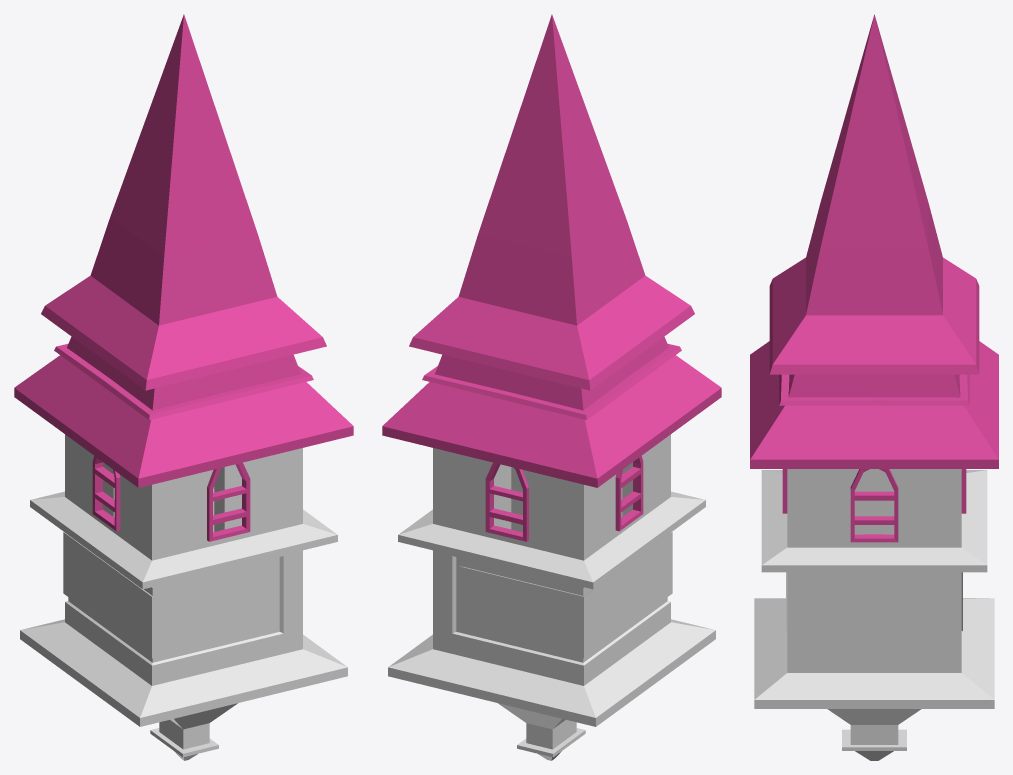
Rendered from Bashenka.fbx.
The picture shows the model from 3 angles, left to right: view 1: azimuth 30°, elevation 25°; view 2: azimuth 150°, elevation 25°; view 3: azimuth 270°, elevation 25°; orthographic projection.
Parts seen in each view (by area): view 1: Cube.041, Cube.030, Cube.042; view 2: Cube.041, Cube.030, Cube.042; view 3: Cube.041, Cube.030, Cube.042.
Part boxes in pixels (left/top/right/bottom): Cube.041: left=14, top=14, right=353, bottom=487; Cube.030: left=20, top=473, right=347, bottom=760; Cube.042: left=30, top=434, right=337, bottom=589; Cube.041: left=382, top=14, right=721, bottom=487; Cube.030: left=388, top=478, right=715, bottom=760; Cube.042: left=398, top=434, right=705, bottom=589; Cube.041: left=750, top=14, right=998, bottom=468; Cube.030: left=754, top=483, right=994, bottom=760; Cube.042: left=761, top=469, right=987, bottom=572.
Size of the model in its own units: 1232 by 4075 by 1232.
